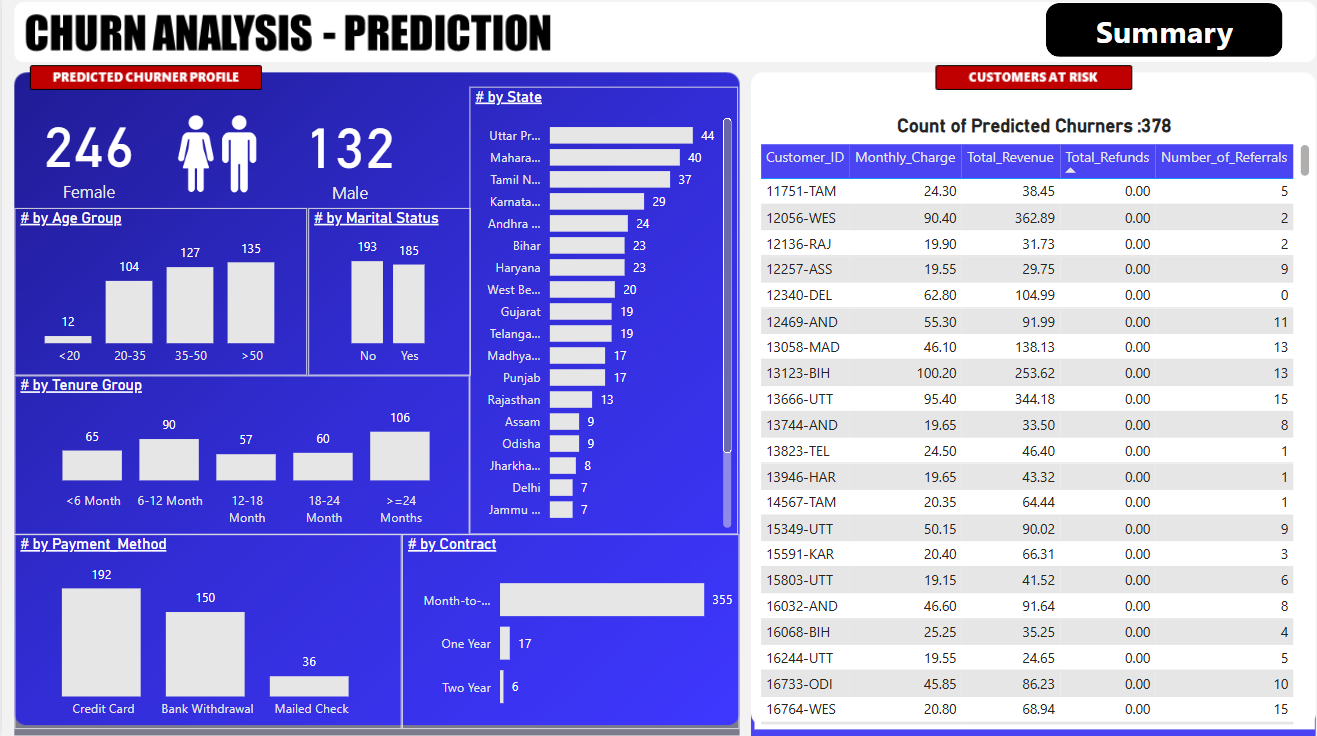

Layout of this report page (visuals, bound fields, positions):
{"tool":"powerbi","page":{"name":"Churn Prediction","canvas":[1280,720],"ordinal":2},"visuals":[{"type":"tableEx","fields":{"Values":["Predictions.Customer_ID","Predictions.Monthly_Charge","Predictions.Total_Revenue","Predictions.Total_Refunds","Predictions.Number_of_Referrals"]},"box":[725.9,141.3,540.7,569.5],"z":0},{"type":"card","fields":{"Values":["tbl_measures.Title Predicted Churner"]},"box":[725.9,102.9,540.7,50.8],"z":1000},{"type":"card","fields":{"Values":["tbl_measures.Count Predicted Churner"]},"box":[27.4,102.9,112.5,101.5],"z":2000},{"type":"card","fields":{"Values":["tbl_measures.Count Predicted Churner"]},"box":[275.8,102.9,119.4,102.9],"z":3000},{"type":"clusteredColumnChart","fields":{"Category":["mapping_AgeGrp.Age Group"],"Y":["CountNonNull(Predictions.Customer_ID)"]},"box":[12.3,207.2,282.7,161.9],"z":4000},{"type":"clusteredColumnChart","fields":{"Y":["CountNonNull(Predictions.Customer_ID)"],"Category":["Predictions.Married"]},"box":[295,207.2,156.4,161.9],"z":5000},{"type":"clusteredColumnChart","fields":{"Y":["CountNonNull(Predictions.Customer_ID)"],"Category":["mapping_TenureGrp.Tenure Group"]},"box":[12.3,369.1,439.1,153.7],"z":6000},{"type":"clusteredColumnChart","fields":{"Y":["CountNonNull(Predictions.Customer_ID)"],"Category":["Predictions.Payment_Method"]},"box":[12.3,522.8,373.2,188],"z":7000},{"type":"clusteredBarChart","fields":{"Category":["Predictions.Contract"],"Y":["CountNonNull(Predictions.Customer_ID)"]},"box":[385.6,522.8,325.2,188],"z":8000},{"type":"clusteredBarChart","fields":{"Y":["CountNonNull(Predictions.Customer_ID)"],"Category":["Predictions.State"]},"box":[451.5,90.6,259.3,432.2],"z":9000},{"type":"image","box":[148.9,102.9,118,104.3],"z":10000},{"type":"shape","box":[1007.2,9.6,229.2,52.1],"z":11000}]}

Visuals, with their boxes in screenshot pixels (x1, y1, x2, y2), scaled from the page's 1280x720 canvas onto the 1317x736 screenshot:
tableEx - Predictions.Customer_ID x Predictions.Monthly_Charge: {"x1": 747, "y1": 144, "x2": 1303, "y2": 727}
card - tbl_measures.Title Predicted Churner: {"x1": 747, "y1": 105, "x2": 1303, "y2": 157}
card - tbl_measures.Count Predicted Churner: {"x1": 28, "y1": 105, "x2": 144, "y2": 209}
card - tbl_measures.Count Predicted Churner: {"x1": 284, "y1": 105, "x2": 407, "y2": 210}
clusteredColumnChart - mapping_AgeGrp.Age Group x CountNonNull(Predictions.Customer_ID): {"x1": 13, "y1": 212, "x2": 304, "y2": 377}
clusteredColumnChart - CountNonNull(Predictions.Customer_ID) x Predictions.Married: {"x1": 304, "y1": 212, "x2": 464, "y2": 377}
clusteredColumnChart - CountNonNull(Predictions.Customer_ID) x mapping_TenureGrp.Tenure Group: {"x1": 13, "y1": 377, "x2": 464, "y2": 534}
clusteredColumnChart - CountNonNull(Predictions.Customer_ID) x Predictions.Payment_Method: {"x1": 13, "y1": 534, "x2": 397, "y2": 727}
clusteredBarChart - Predictions.Contract x CountNonNull(Predictions.Customer_ID): {"x1": 397, "y1": 534, "x2": 731, "y2": 727}
clusteredBarChart - CountNonNull(Predictions.Customer_ID) x Predictions.State: {"x1": 465, "y1": 93, "x2": 731, "y2": 534}
image: {"x1": 153, "y1": 105, "x2": 275, "y2": 212}
shape: {"x1": 1036, "y1": 10, "x2": 1272, "y2": 63}
